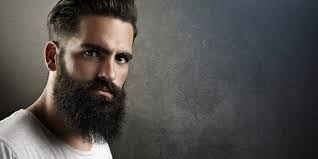b.y: (74, 79, 125, 141)
